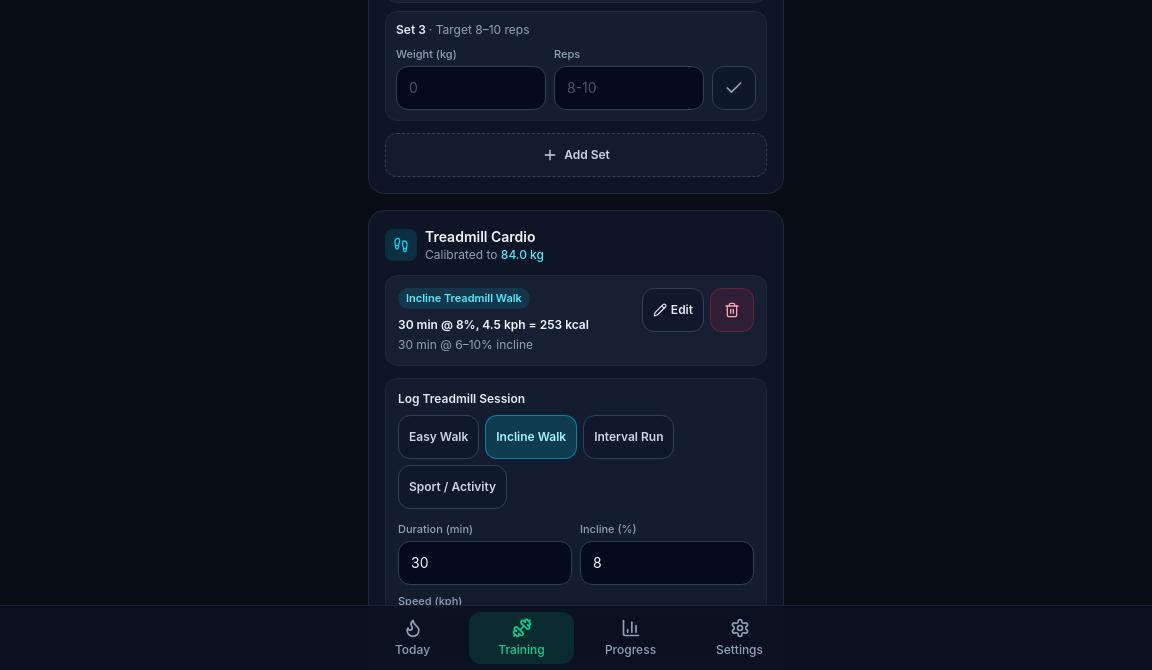
it: TrainingView, WorkoutLogger, TreadmillLogger & RestTimer › updates live treadmill calorie estimate based on body weight and edits pre-populated cardio without duplication
The image size is (1152, 670).
Later steps or results of the test are not shown.
(page scrolled)
Edit pre-populated cardio in place (no duplicate entry)
Click the button with aria-label "Edit cardio 1".
click(673, 310)  # box [642, 288, 704, 332]
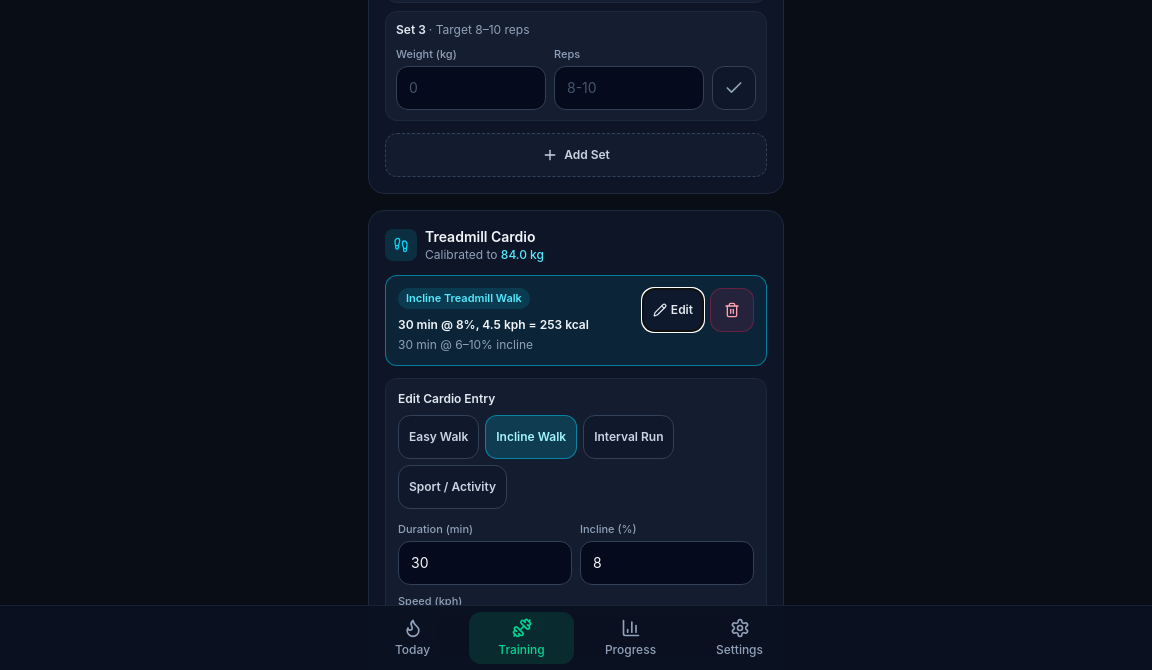
Replace the text in the number field labelled "Duration (min)" with "35" at (485,563), box [398, 541, 572, 585]
(page scrolled)
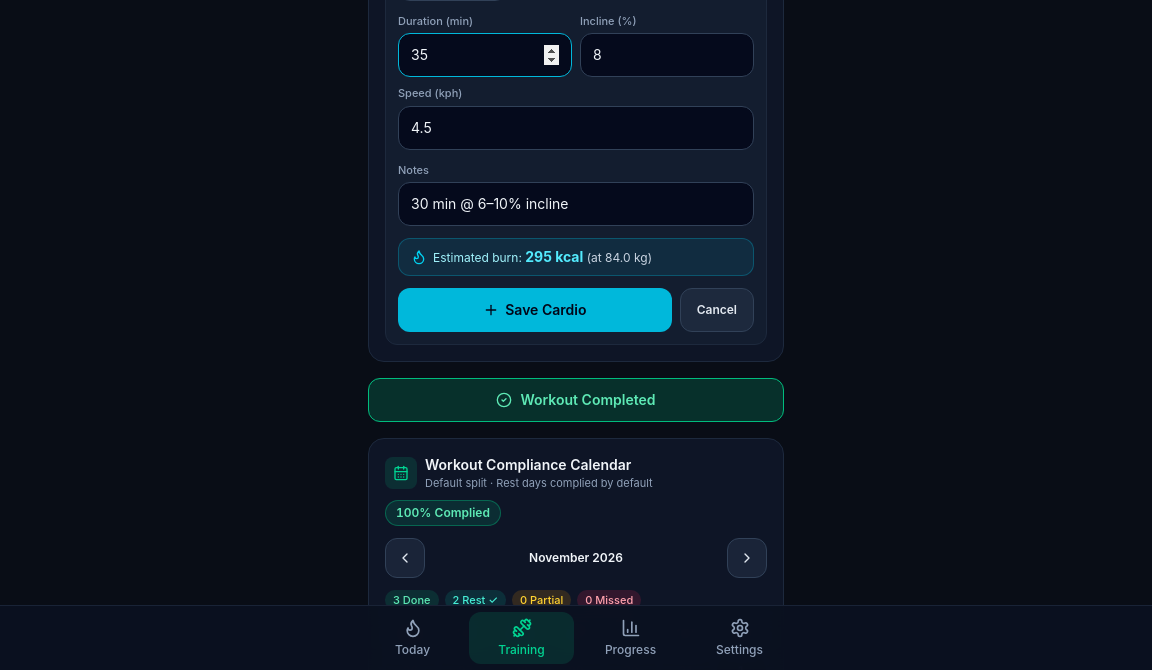
Click the button "Save Cardio".
click(535, 310)  # box [398, 288, 672, 332]
(page scrolled)
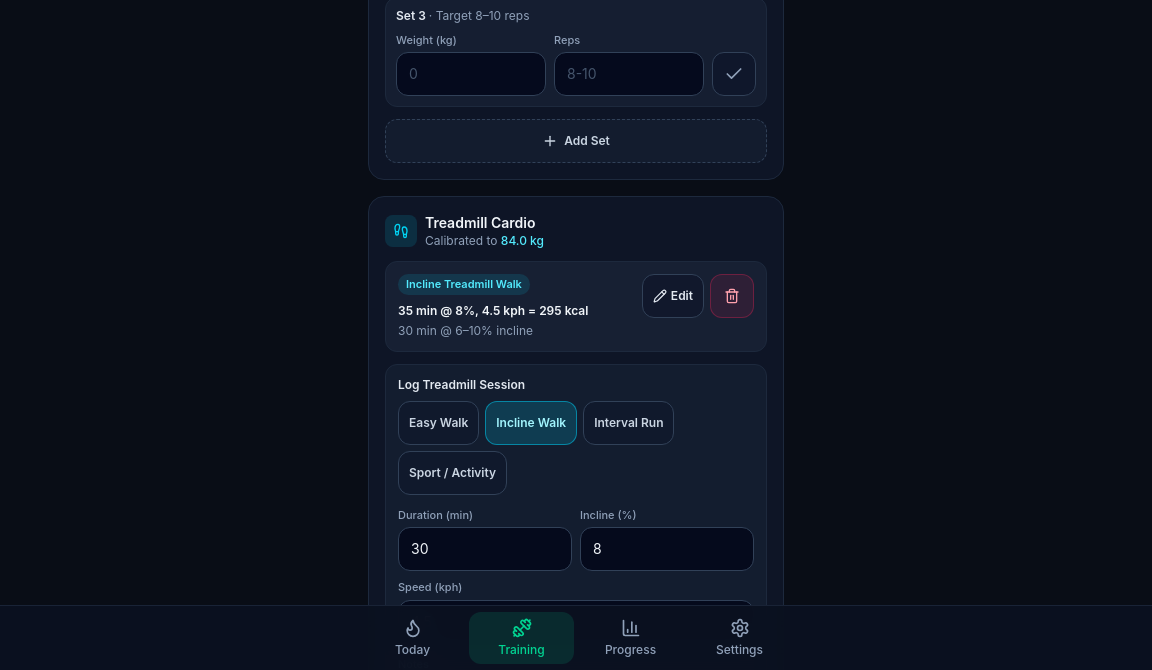
Expected: the text "35 min @ 8%, 4.5 kph = 295 kcal" is shown, [398, 302, 588, 318]
